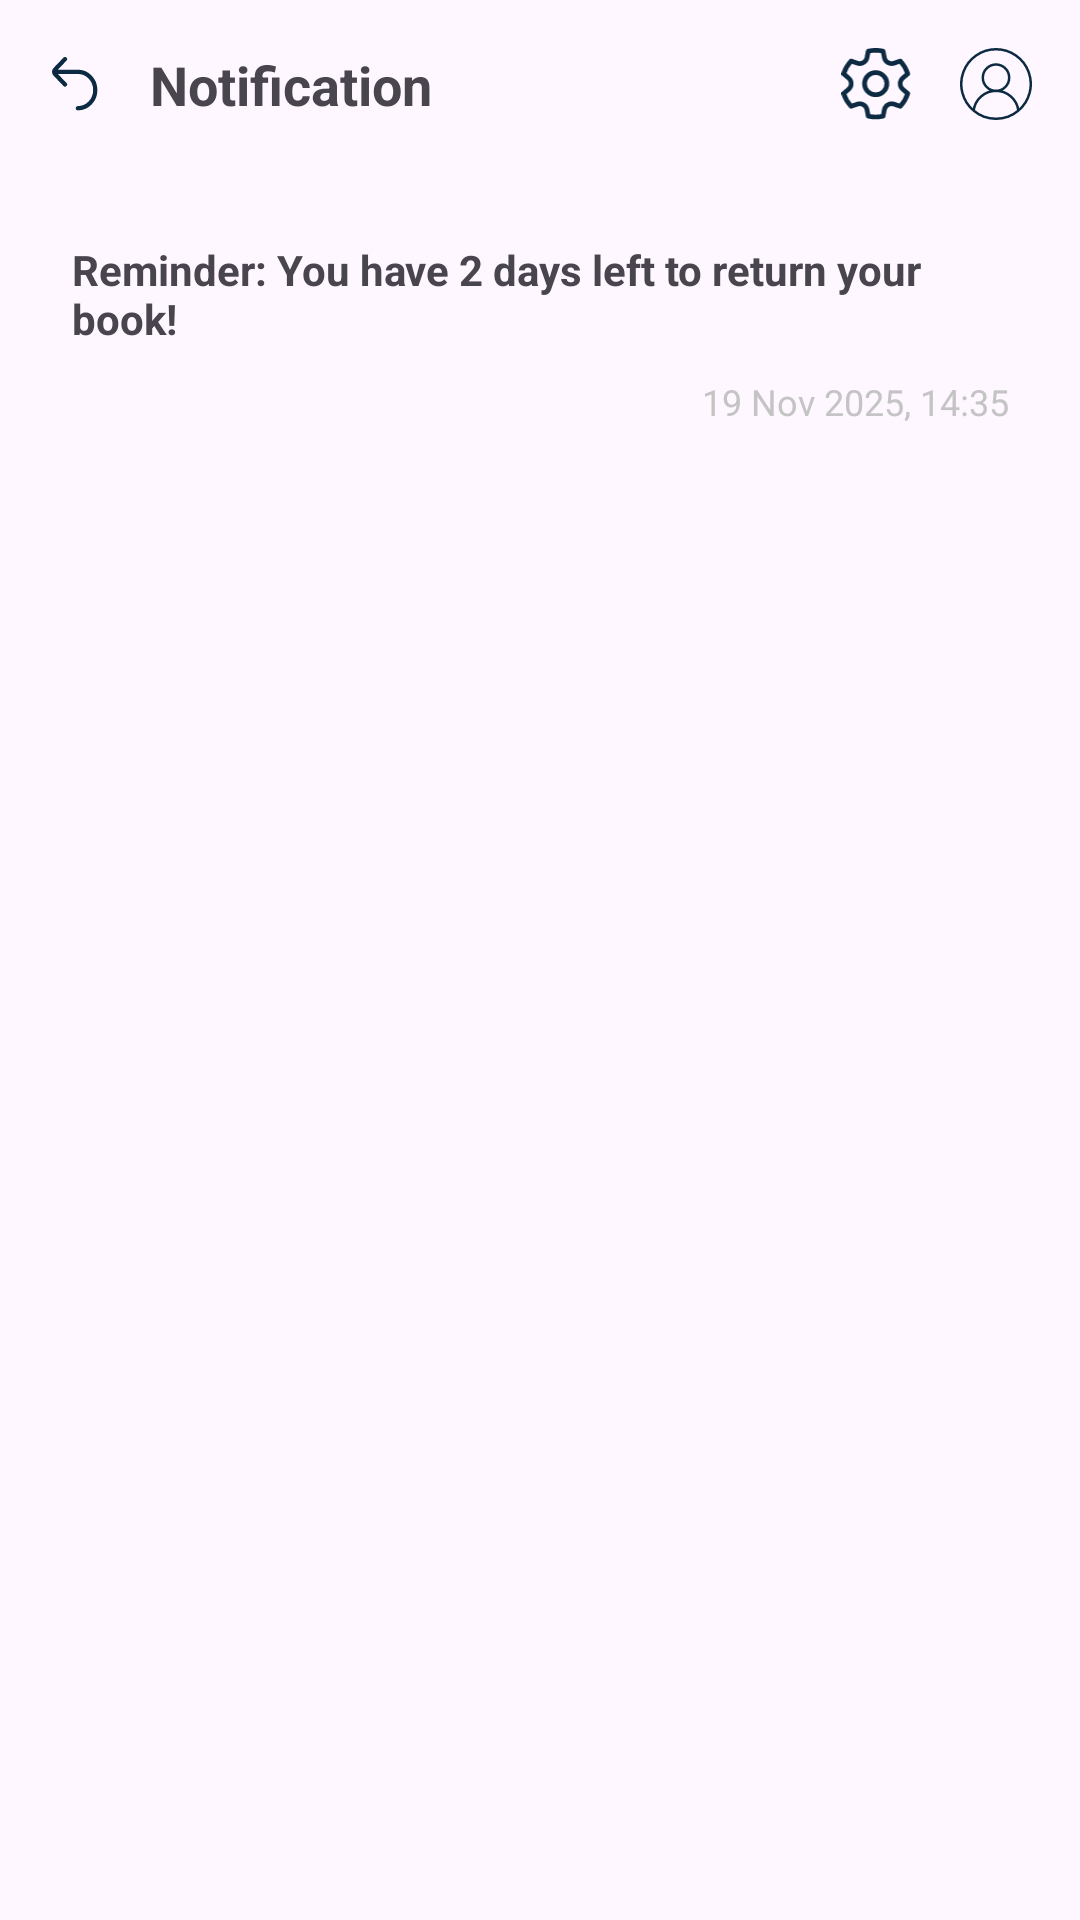

Icon bounding boxes for this 1080w x 1920h phone screenshot, format (x1, y1, x2, y2):
back: (52, 57, 98, 111)
profile: (960, 48, 1032, 120)
settings: (841, 48, 911, 120)
